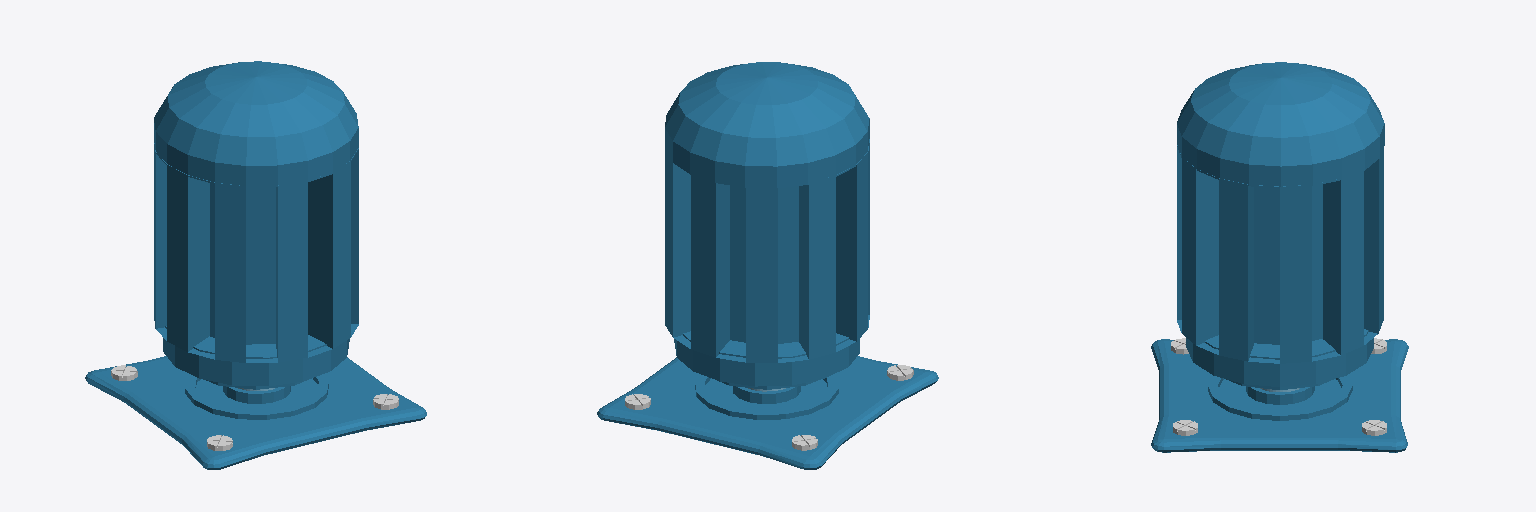
The model's file is motor.obj.
3 renders of one model, left to right at view 1: azimuth 30°, elevation 25°; view 2: azimuth 150°, elevation 25°; view 3: azimuth 270°, elevation 25°, orthographic.
Parts seen in each view (by area): view 1: __.4, __, ___.1, __.5, __.1; view 2: __.4, __, ___.1, __.5, __.1; view 3: __.4, __, ___.1, __.5, __.1.
Part boxes in pixels (left/top/right/bottom): __.4: left=154, top=143, right=358, bottom=362; __: left=154, top=61, right=358, bottom=419; ___.1: left=85, top=356, right=426, bottom=469; __.5: left=163, top=326, right=349, bottom=385; __.1: left=111, top=365, right=398, bottom=450; __.4: left=665, top=139, right=869, bottom=362; __: left=665, top=62, right=869, bottom=419; ___.1: left=597, top=356, right=938, bottom=469; __.5: left=674, top=331, right=859, bottom=386; __.1: left=625, top=365, right=913, bottom=450; __.4: left=1177, top=145, right=1383, bottom=363; __: left=1177, top=62, right=1384, bottom=420; ___.1: left=1151, top=339, right=1408, bottom=452; __.5: left=1186, top=329, right=1373, bottom=386; __.1: left=1171, top=338, right=1386, bottom=435.
Size of the model in its own units: 275 by 420 by 275.